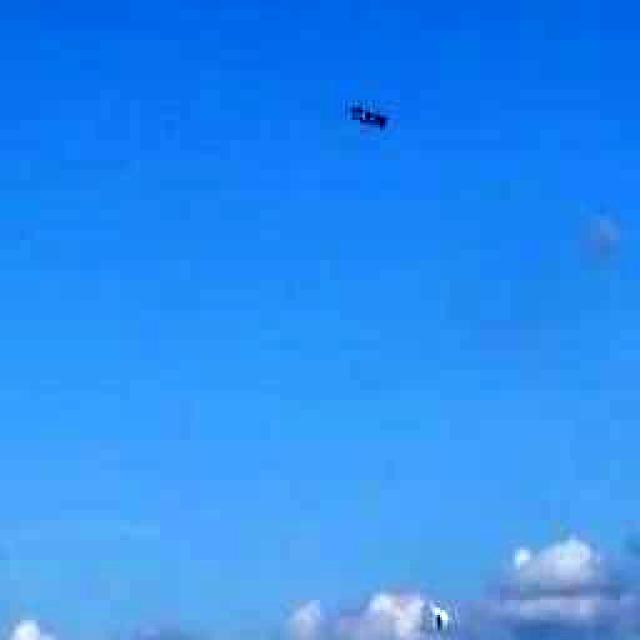bird: (321, 80, 431, 155), (406, 584, 474, 640)
